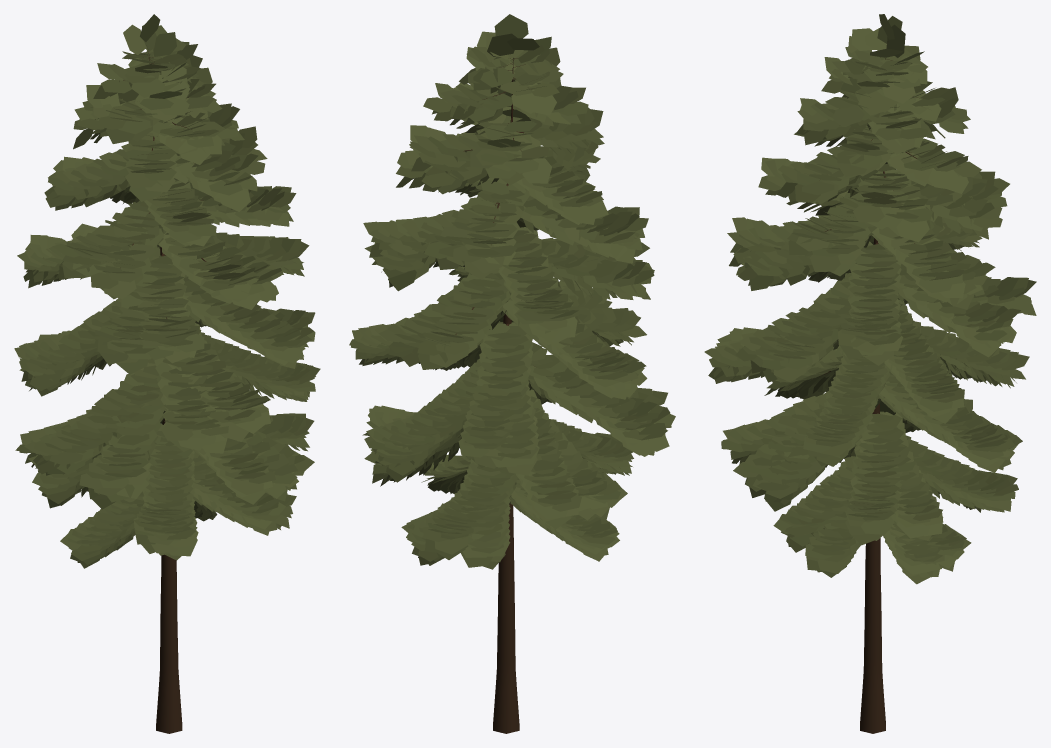
File: pinetree.fbx
3 renders of one model, left to right at view 1: azimuth 30°, elevation 25°; view 2: azimuth 150°, elevation 25°; view 3: azimuth 270°, elevation 25°, orthographic.
Parts seen in each view (by area): view 1: leaves, tree; view 2: leaves, tree; view 3: leaves, tree.
Boxes of the visible parts, x1,y1,x2,y2 form: leaves: (14, 14, 320, 568); tree: (120, 51, 206, 733); leaves: (349, 14, 675, 569); tree: (455, 58, 534, 733); leaves: (704, 14, 1036, 584); tree: (819, 47, 919, 733).
Bounding box in the file's own units: 2031 × 4814 × 2048.
